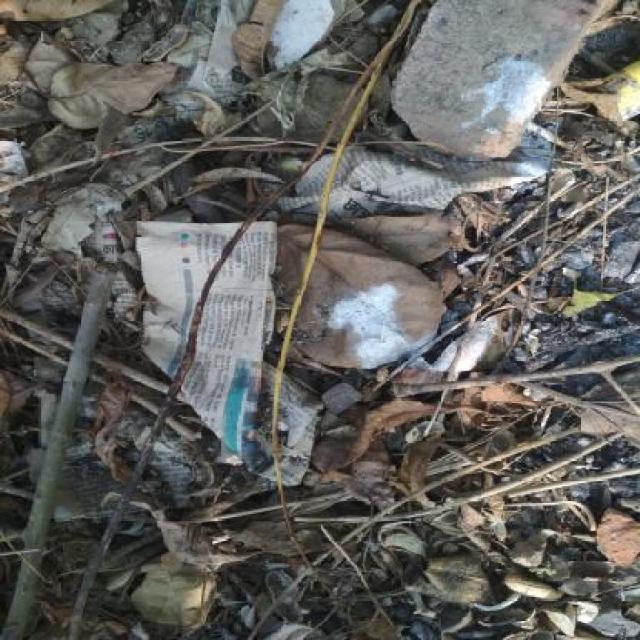garbage: (18, 464, 630, 640), (117, 222, 474, 433), (3, 3, 337, 172), (360, 171, 628, 336)
